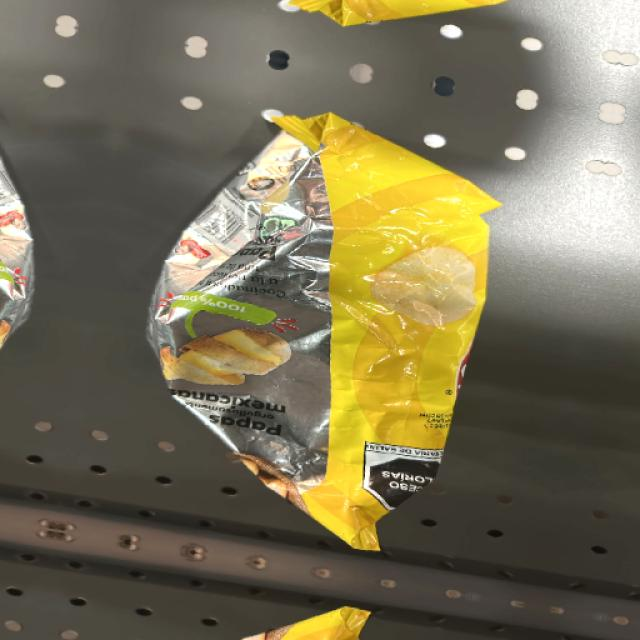productoAtras: (152, 159, 344, 480)
